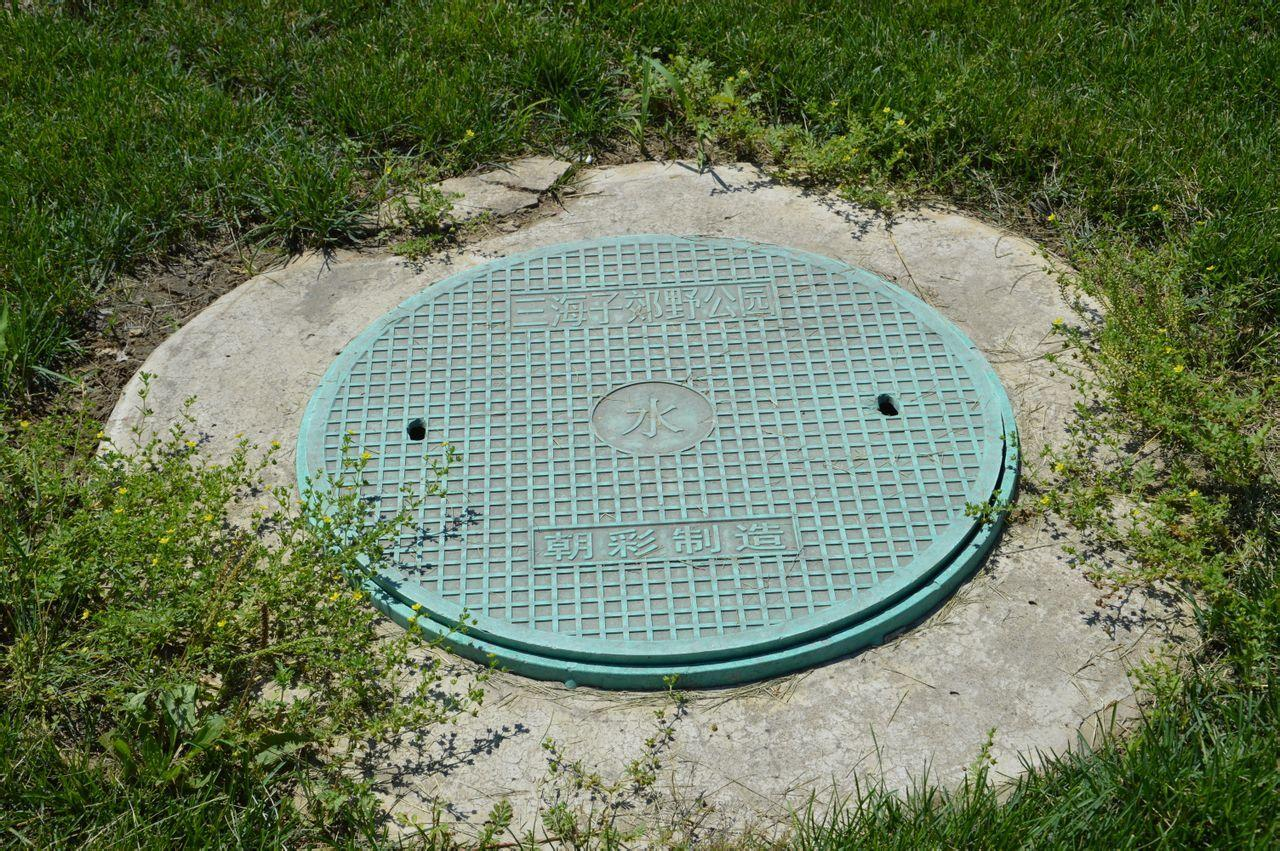wellcover: (274, 224, 1058, 690)
